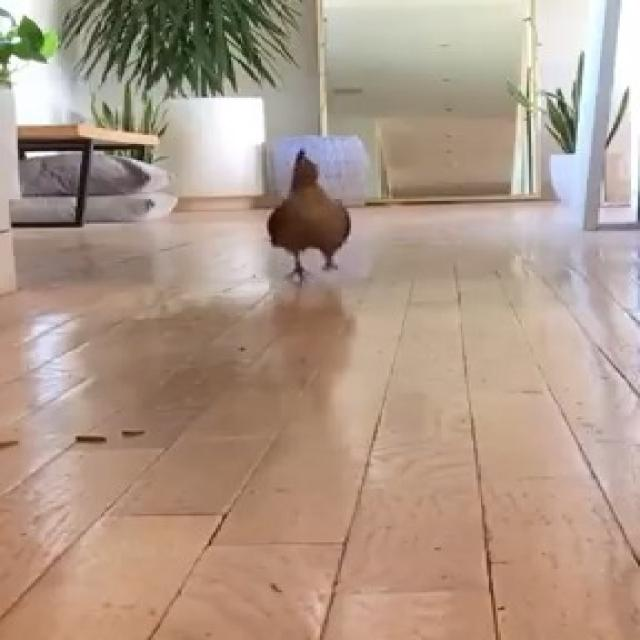running: (264, 146, 366, 293)
